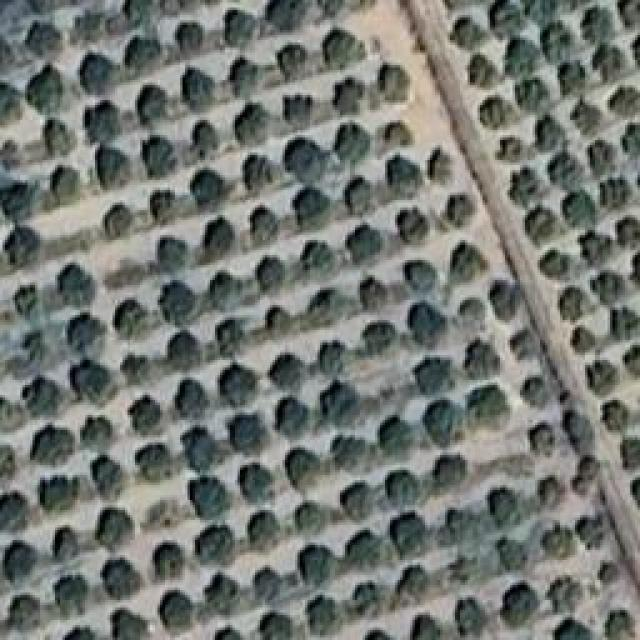Tree: (285, 138, 330, 184), (72, 360, 116, 406), (27, 65, 65, 115), (30, 425, 75, 467), (320, 380, 361, 426), (423, 400, 462, 448), (218, 362, 258, 407), (470, 385, 510, 430), (158, 280, 197, 326), (228, 413, 269, 456), (323, 28, 366, 69), (408, 304, 448, 348), (390, 513, 428, 559), (68, 314, 107, 358), (57, 262, 95, 307), (502, 582, 540, 627), (190, 478, 230, 520), (95, 508, 134, 551), (103, 558, 142, 600), (450, 243, 489, 285), (285, 448, 323, 491), (292, 188, 330, 231), (332, 123, 370, 166), (183, 427, 219, 472), (23, 378, 63, 418), (195, 525, 234, 566), (5, 225, 43, 267), (3, 540, 38, 585), (235, 103, 271, 146), (98, 145, 132, 190), (345, 225, 383, 265), (190, 170, 226, 212), (298, 545, 334, 587), (388, 155, 424, 197), (85, 100, 120, 143), (413, 358, 453, 395), (238, 463, 274, 504), (205, 573, 240, 615), (143, 135, 177, 178), (380, 415, 414, 458), (465, 340, 501, 380), (80, 53, 114, 95), (125, 38, 163, 75), (0, 184, 35, 224), (548, 150, 583, 190), (93, 455, 124, 500), (128, 395, 162, 436), (398, 565, 431, 607), (205, 218, 235, 264), (563, 410, 593, 456), (25, 23, 63, 59), (40, 478, 78, 514), (310, 290, 346, 328), (345, 530, 381, 568), (445, 508, 483, 544), (160, 590, 194, 630), (175, 378, 209, 418), (275, 398, 309, 438), (505, 37, 539, 77), (525, 206, 559, 246), (248, 510, 281, 551), (138, 85, 169, 128), (183, 68, 214, 111), (135, 445, 171, 482), (268, 353, 304, 390), (113, 300, 148, 338), (335, 435, 373, 470), (168, 330, 201, 370), (340, 482, 373, 522), (55, 575, 86, 617), (548, 578, 584, 614), (43, 118, 77, 156), (210, 273, 244, 311), (490, 0, 524, 38), (378, 62, 411, 101), (268, 0, 309, 31), (490, 280, 521, 321), (230, 58, 260, 100), (578, 230, 613, 266), (585, 360, 619, 397), (480, 95, 518, 128), (570, 98, 603, 136), (308, 595, 339, 635), (488, 488, 519, 528), (543, 23, 573, 64), (543, 525, 578, 560), (590, 270, 625, 305), (388, 470, 421, 507), (593, 45, 626, 82), (243, 155, 273, 195), (510, 167, 540, 207), (225, 10, 256, 48), (333, 78, 364, 116), (250, 206, 279, 246), (573, 455, 602, 495), (450, 18, 485, 51), (83, 415, 114, 452), (278, 45, 309, 82), (583, 8, 614, 45), (112, 610, 150, 640), (153, 543, 183, 581), (363, 323, 397, 356), (457, 597, 485, 637), (10, 595, 41, 631), (535, 115, 566, 151), (50, 165, 79, 203), (215, 318, 244, 356), (345, 178, 373, 217), (435, 455, 468, 488), (600, 178, 633, 211), (498, 537, 529, 572), (563, 192, 594, 227), (158, 238, 188, 274), (400, 208, 430, 244), (587, 140, 615, 178), (175, 23, 204, 59), (0, 495, 28, 532), (255, 255, 283, 292), (295, 503, 326, 536), (518, 80, 551, 111), (103, 204, 133, 238), (353, 582, 382, 617), (575, 515, 604, 550), (558, 287, 587, 322), (192, 120, 220, 156), (300, 242, 333, 272), (540, 250, 573, 280), (255, 567, 283, 602), (557, 62, 585, 97), (120, 353, 150, 385), (610, 308, 640, 340), (360, 278, 389, 311), (448, 195, 477, 228), (470, 55, 499, 88), (603, 400, 632, 433), (607, 87, 640, 116), (283, 95, 310, 130), (320, 343, 348, 376), (13, 285, 39, 320), (53, 527, 79, 562), (405, 262, 435, 292), (537, 475, 565, 507), (265, 305, 294, 335), (605, 610, 634, 640), (428, 148, 452, 184), (510, 326, 537, 358), (555, 617, 592, 640), (524, 0, 559, 24), (150, 190, 175, 223), (528, 423, 553, 455), (520, 378, 545, 408), (262, 615, 290, 640), (457, 297, 485, 322), (385, 122, 414, 146), (617, 217, 640, 247), (20, 331, 45, 358), (0, 140, 21, 171), (413, 615, 439, 640), (498, 137, 524, 162), (573, 328, 598, 354), (622, 123, 640, 158), (450, 555, 473, 582), (618, 0, 640, 28), (622, 438, 640, 468), (623, 345, 639, 378), (598, 563, 619, 586), (62, 627, 95, 640), (215, 627, 245, 640), (365, 630, 395, 640)
